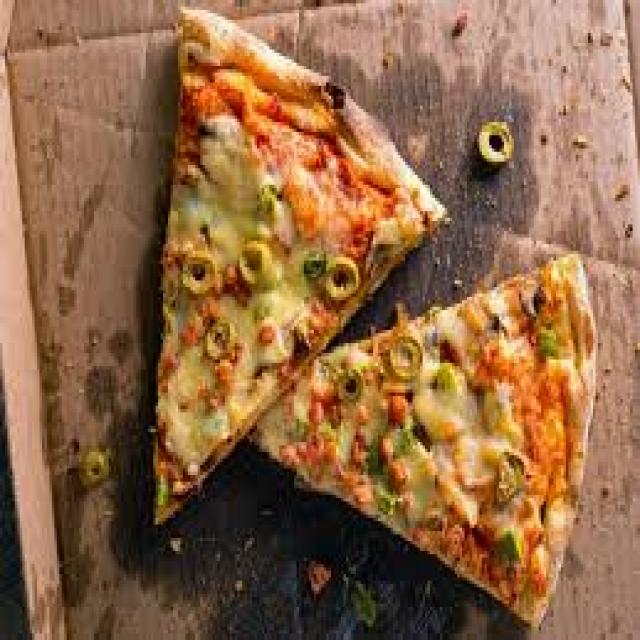organic waste: (148, 3, 448, 528), (234, 244, 596, 634), (474, 116, 509, 162), (74, 449, 106, 485)
